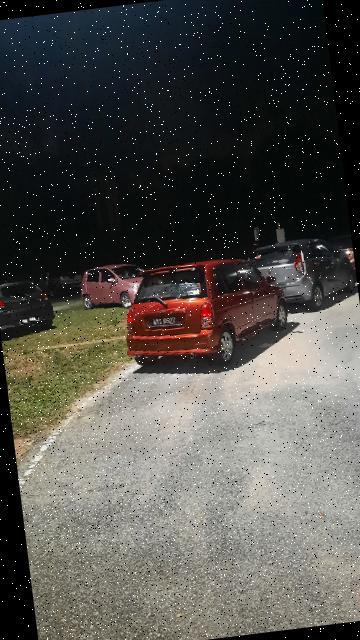License_Plate: (145, 313, 183, 334)
car: (118, 247, 296, 374)
